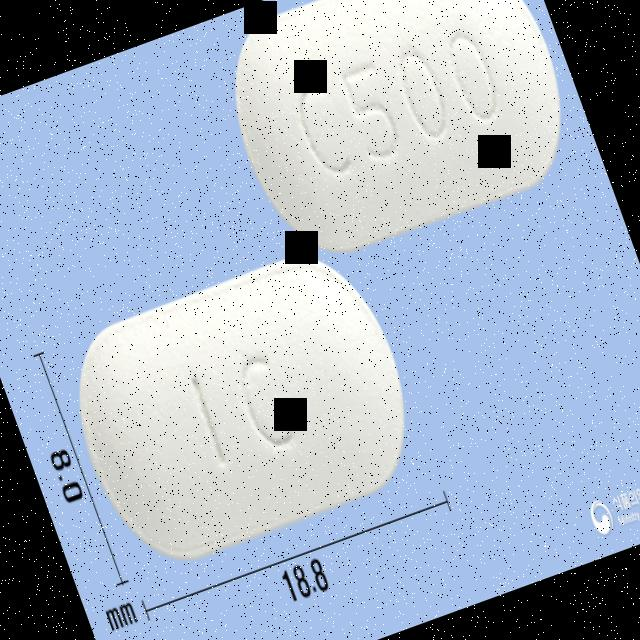Ciroctan: (42, 228, 442, 590), (197, 0, 600, 285)
